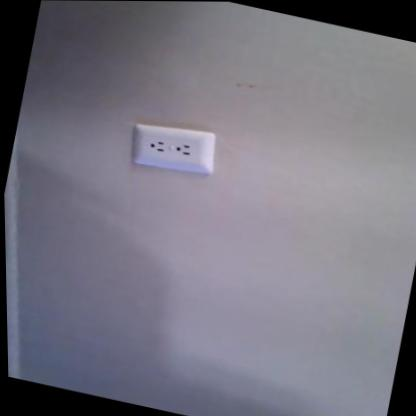OUTLET: (126, 115, 219, 181)
